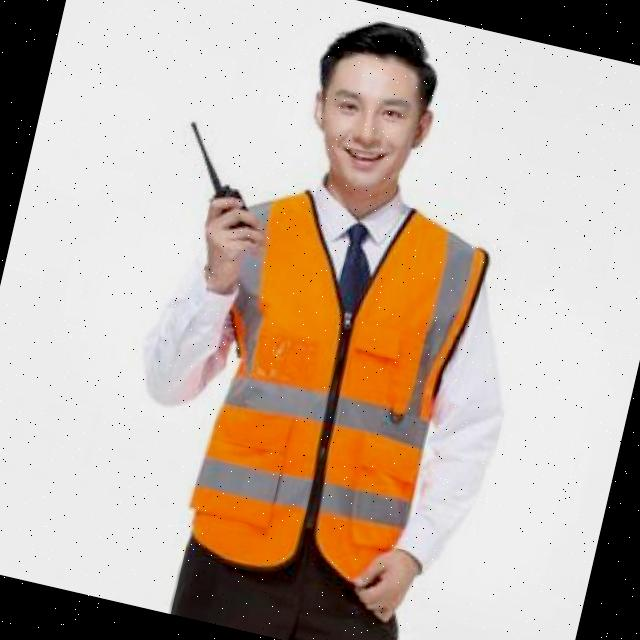vest: (176, 174, 489, 600)
